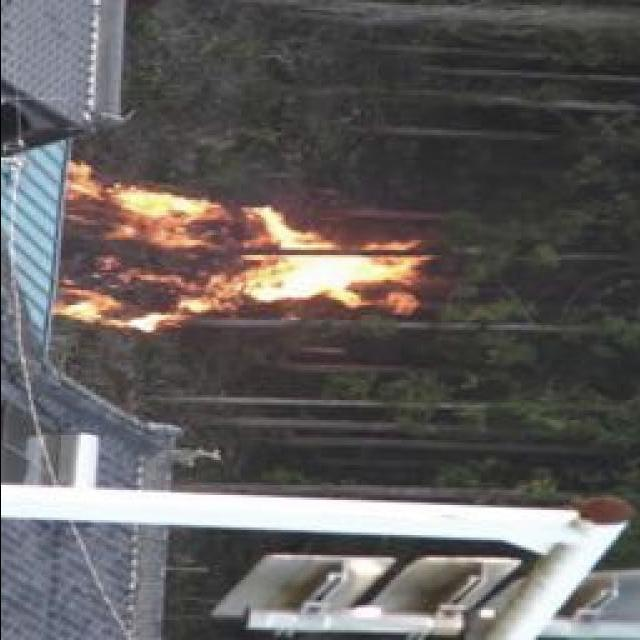Fire: (51, 180, 413, 333)
